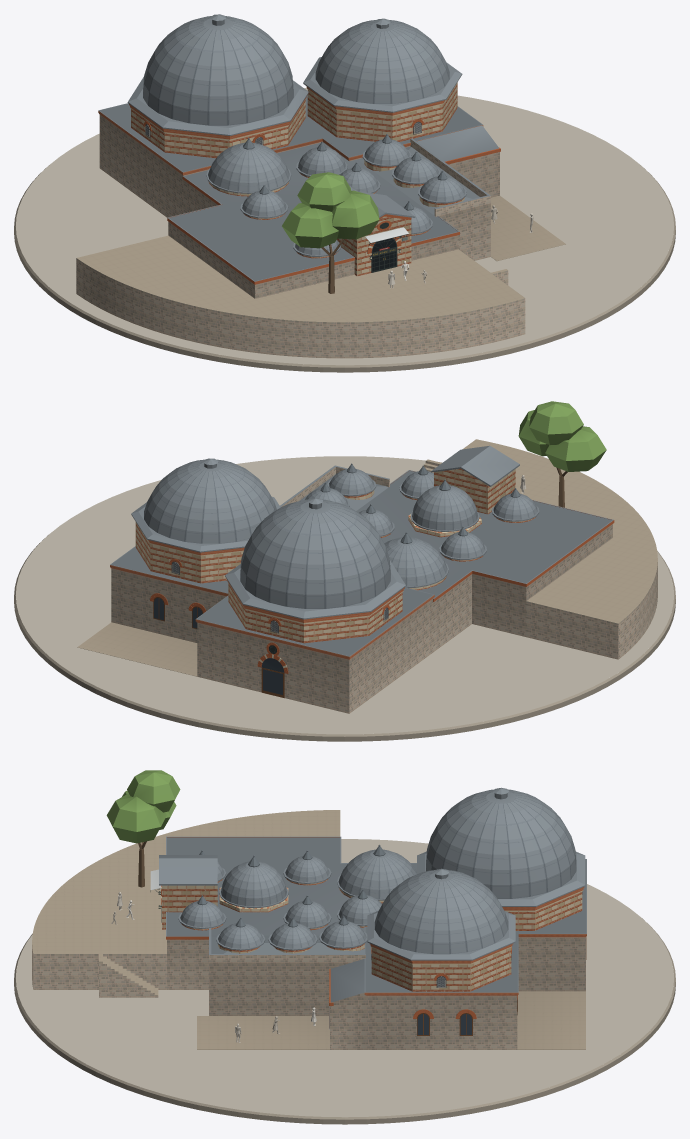
Rendered from orhan-bey-hamami_v04_sunum.glb.
3 views of the same model, one above another, from view 1: azimuth 30°, elevation 25°; view 2: azimuth 150°, elevation 25°; view 3: azimuth 270°, elevation 25° (orthographic).
Parts seen in each view (by area): view 1: Zemin_Kaide, Zemin_Set, Kubbe_Sogukluk_Erkek, Hamam_Sicaklik, Kubbe_Sogukluk_Kadin, Kubbe_Halvetler, Hamam_Sogukluk_Erkek, Cevre_Agac_01, Hamam_Detay, Hamam_Giris, Kubbe_Iliklik, Hamam_Giris_Kadin (+2 smaller); view 2: Zemin_Kaide, Kubbe_Sogukluk_Erkek, Zemin_Set, Hamam_Sicaklik, Hamam_Sogukluk_Erkek, Kubbe_Sogukluk_Kadin, Kubbe_Halvetler, Hamam_Detay, Hamam_Sogukluk_Kadin, Cevre_Agac_01, Hamam_Giris, Cevre_Doseme (+2 smaller); view 3: Zemin_Kaide, Zemin_Set, Hamam_Sicaklik, Kubbe_Sogukluk_Erkek, Kubbe_Sogukluk_Kadin, Kubbe_Halvetler, Hamam_Sogukluk_Kadin, Cevre_Doseme, Hamam_Sogukluk_Erkek, Cevre_Agac_01, Hamam_Detay, Hamam_Giris (+3 smaller).
Boxes of the visible parts, box(x1,y1,x2,y2) form: Zemin_Kaide: box(14, 88, 675, 372); Zemin_Set: box(76, 235, 525, 358); Kubbe_Sogukluk_Erkek: box(127, 16, 308, 158); Hamam_Sicaklik: box(168, 142, 490, 298); Kubbe_Sogukluk_Kadin: box(303, 20, 462, 141); Kubbe_Halvetler: box(240, 138, 490, 258); Hamam_Sogukluk_Erkek: box(99, 103, 333, 217); Cevre_Agac_01: box(282, 172, 379, 293); Hamam_Detay: box(98, 14, 483, 284); Hamam_Giris: box(337, 191, 415, 276); Kubbe_Iliklik: box(206, 142, 291, 196); Hamam_Giris_Kadin: box(417, 125, 500, 197); Zemin_Kaide: box(14, 456, 675, 741); Kubbe_Sogukluk_Erkek: box(225, 499, 405, 643); Zemin_Set: box(423, 439, 657, 659); Hamam_Sicaklik: box(356, 470, 612, 652); Hamam_Sogukluk_Erkek: box(197, 588, 432, 713); Kubbe_Sogukluk_Kadin: box(131, 459, 280, 583); Kubbe_Halvetler: box(280, 465, 539, 561); Hamam_Detay: box(110, 458, 614, 698); Hamam_Sogukluk_Kadin: box(111, 547, 228, 642); Cevre_Agac_01: box(518, 401, 606, 507); Hamam_Giris: box(431, 445, 519, 514); Cevre_Doseme: box(77, 622, 197, 676); Zemin_Kaide: box(14, 839, 675, 1124); Zemin_Set: box(32, 810, 340, 997); Hamam_Sicaklik: box(167, 837, 416, 1015); Kubbe_Sogukluk_Erkek: box(417, 789, 585, 930); Kubbe_Sogukluk_Kadin: box(367, 870, 515, 991); Kubbe_Halvetler: box(178, 856, 381, 962); Hamam_Sogukluk_Kadin: box(366, 927, 517, 1049); Cevre_Doseme: box(197, 991, 585, 1049); Hamam_Sogukluk_Erkek: box(515, 859, 585, 991); Cevre_Agac_01: box(106, 770, 180, 887); Hamam_Detay: box(166, 787, 586, 1035); Hamam_Giris: box(150, 855, 217, 929).
Size of the model in its own units: 54.96 by 15.8 by 54.96.
Materials: 9 (6 with a texture image).
